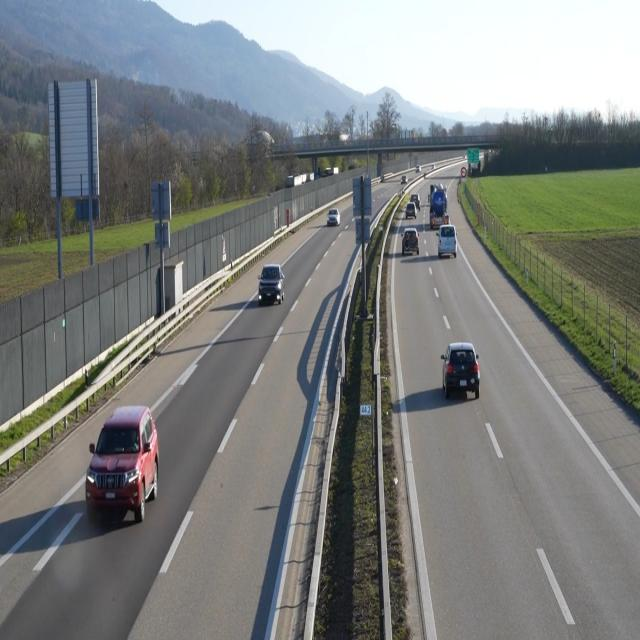Car: (80, 399, 159, 535), (441, 334, 484, 406), (256, 255, 290, 312), (436, 218, 458, 261), (401, 221, 422, 252), (324, 200, 343, 234), (406, 199, 418, 219)
Truck: (428, 179, 449, 228)
